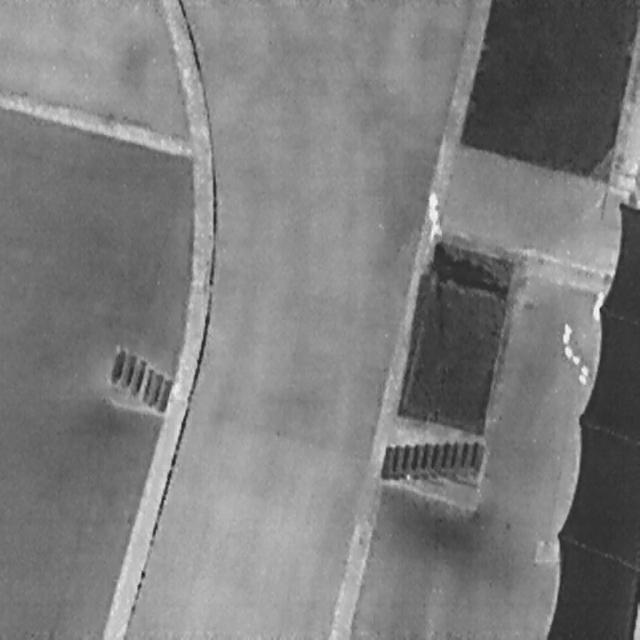Person: (589, 286, 605, 322), (429, 211, 442, 241), (428, 189, 438, 215)
